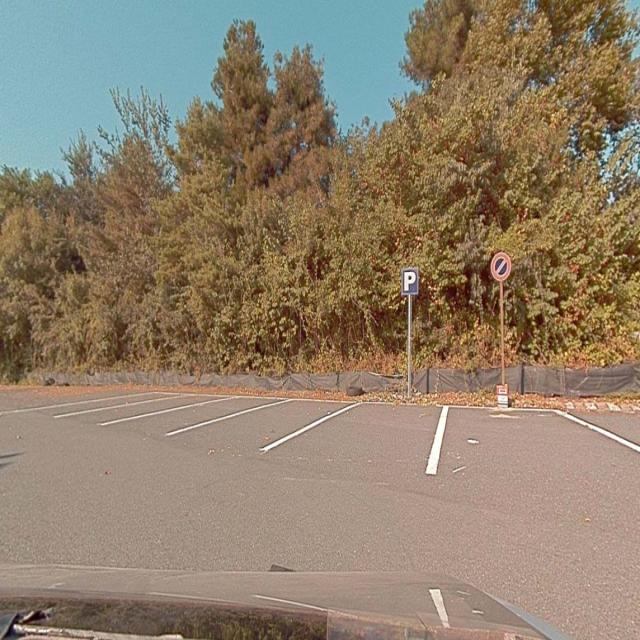park: (403, 270, 418, 292)
parkyasak: (492, 252, 511, 281)
